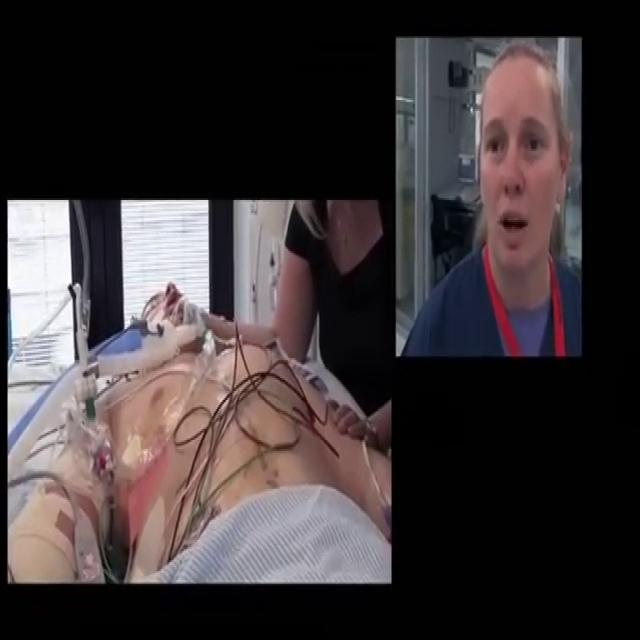doctor: (399, 38, 582, 356)
patient: (7, 282, 392, 584)
